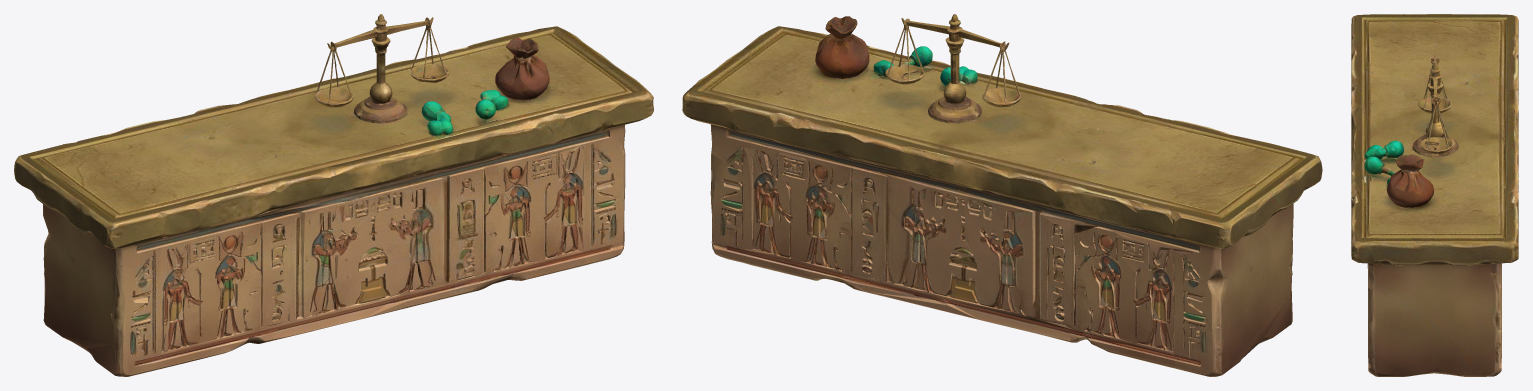
File: et_counter.glb
3 renders of one model, left to right at view 1: azimuth 30°, elevation 25°; view 2: azimuth 150°, elevation 25°; view 3: azimuth 270°, elevation 25°, orthographic. The views are drawn at different scales.
Size of the model in its own units: 1.9 by 0.8811 by 0.5838.
1 material, 1 textured.
